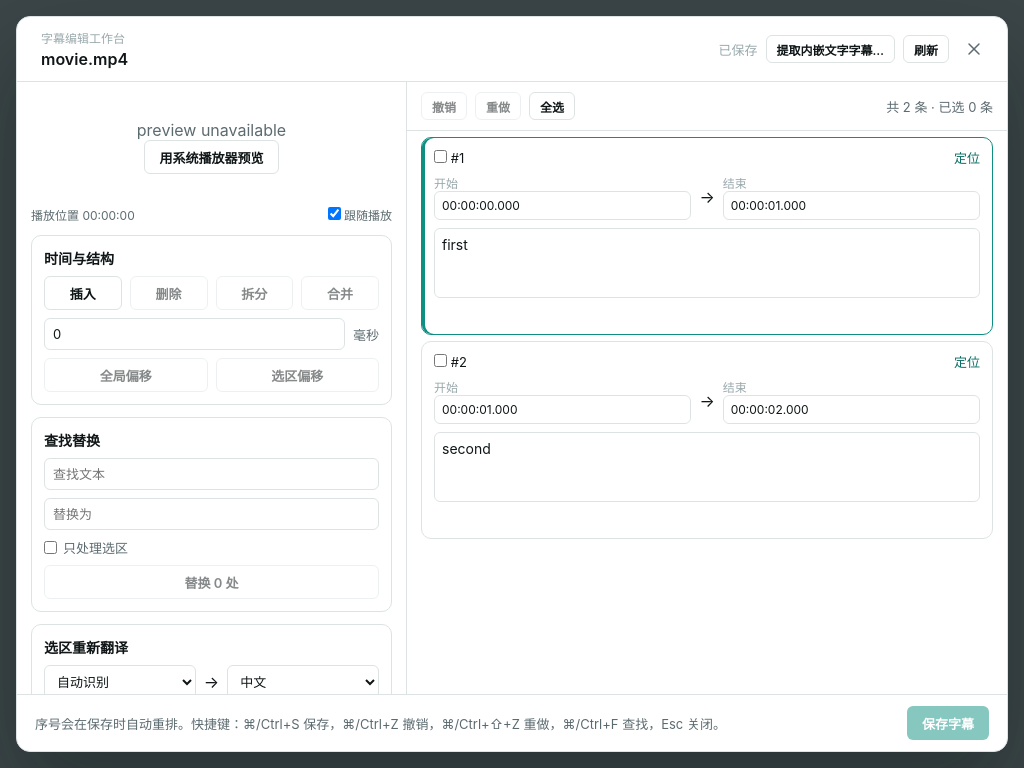
Test: SubtitleWorkbench › keeps edits dirty when the backend reports an external conflict
Replace the text in the text box with test id "entry-text-cue-1" with "changed": (707, 263) [434,228,980,298]
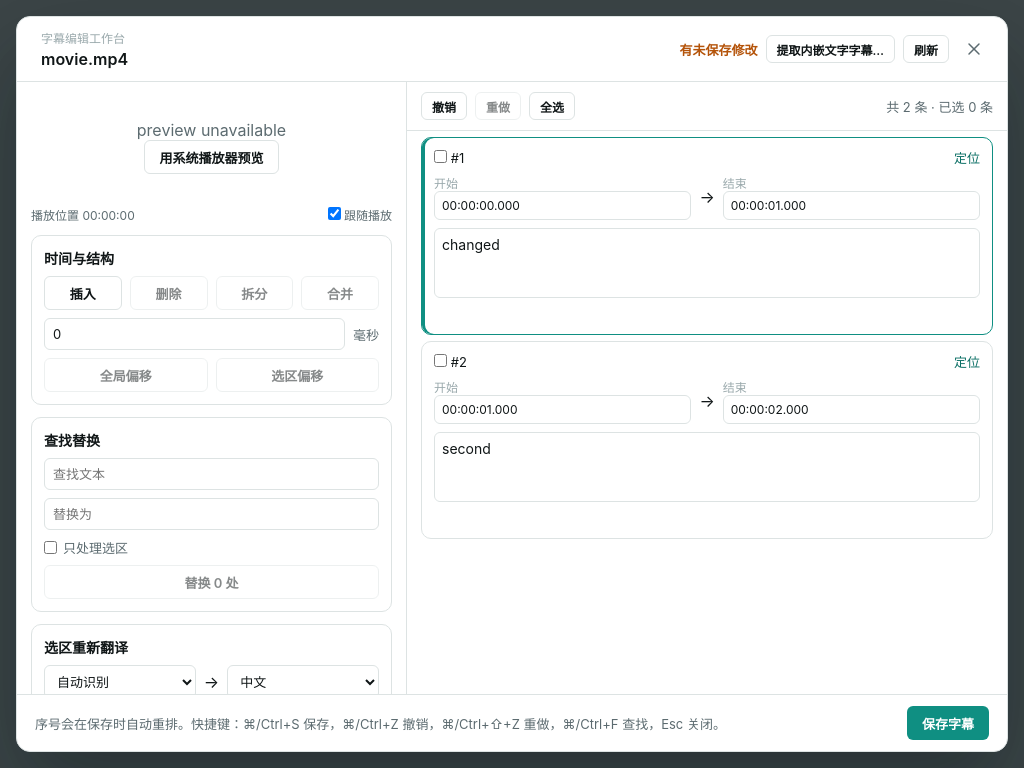
Click the button with test id "save-subtitle": (948, 723) [907,706,989,740]
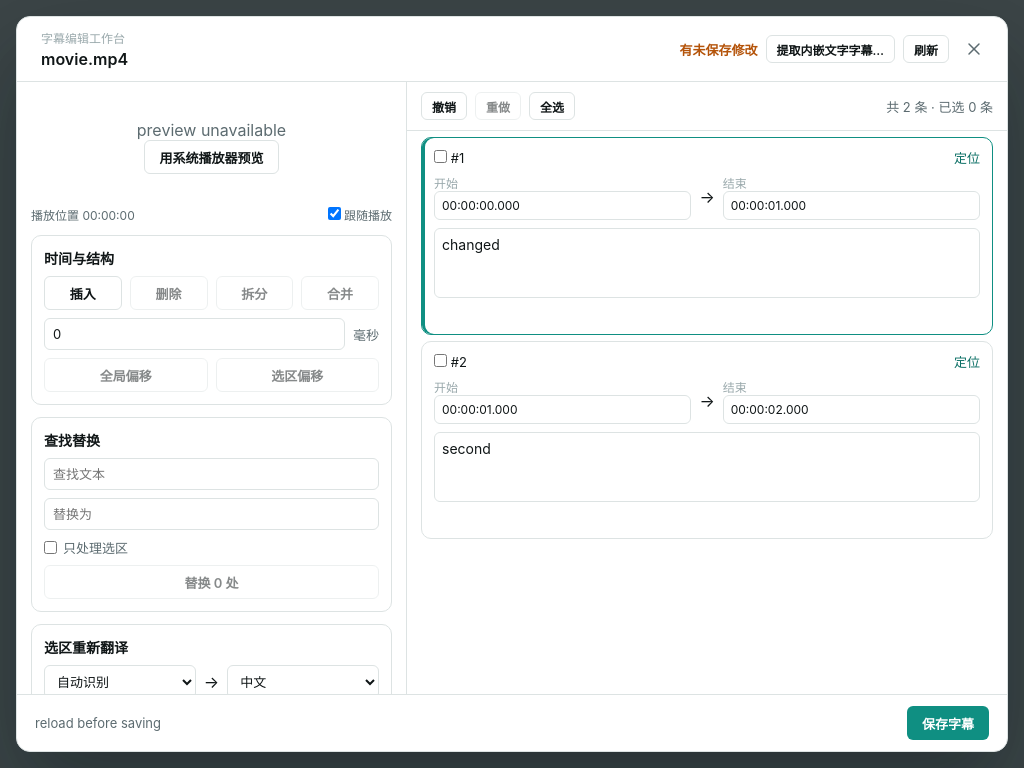
Check: the text "reload before saving" is shown, box [35,715,161,731]
